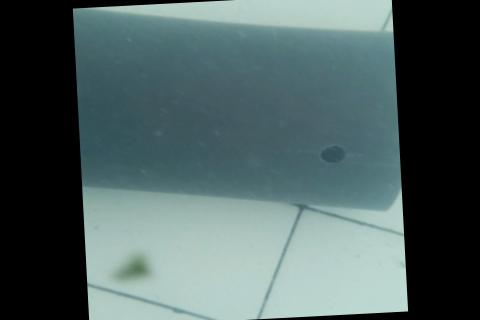kebocoran: (318, 143, 349, 166)
